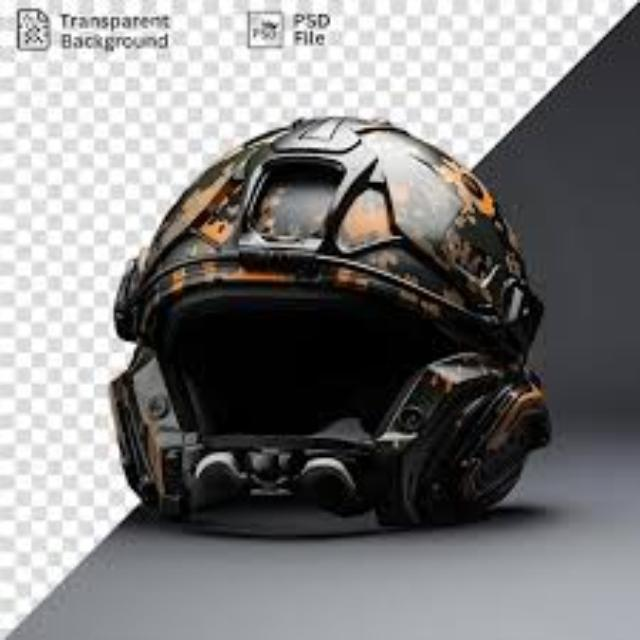motorcycle-helmets: (101, 113, 566, 532)
